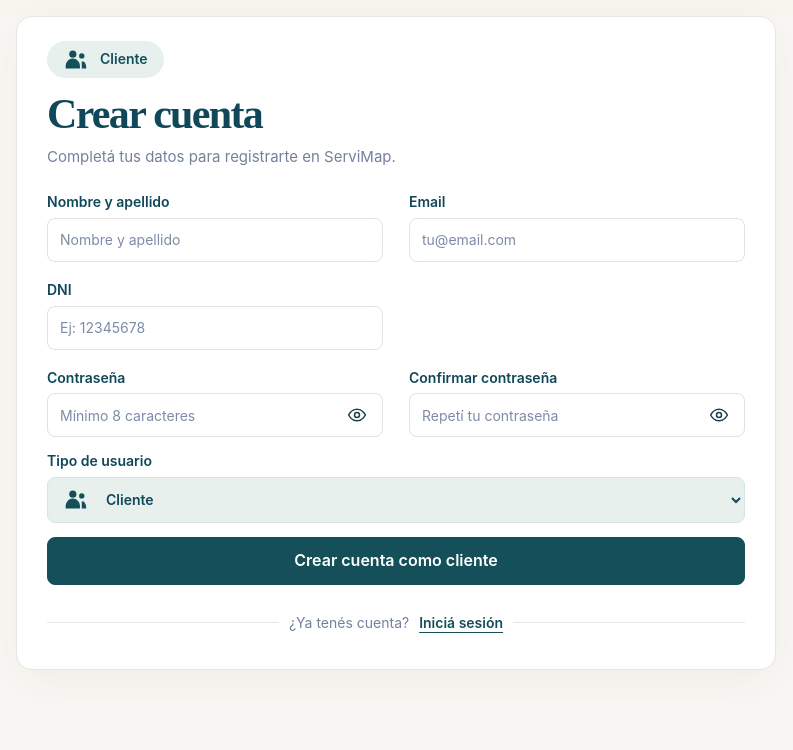
Registro conectado al backend › registra CLIENTE con el contrato exacto y normaliza DNI
The width and height of the screenshot is (793, 750).
Type "Persona Apellido" into the field labelled "Nombre y apellido". click: (215, 240)
box: [47,218,383,262]
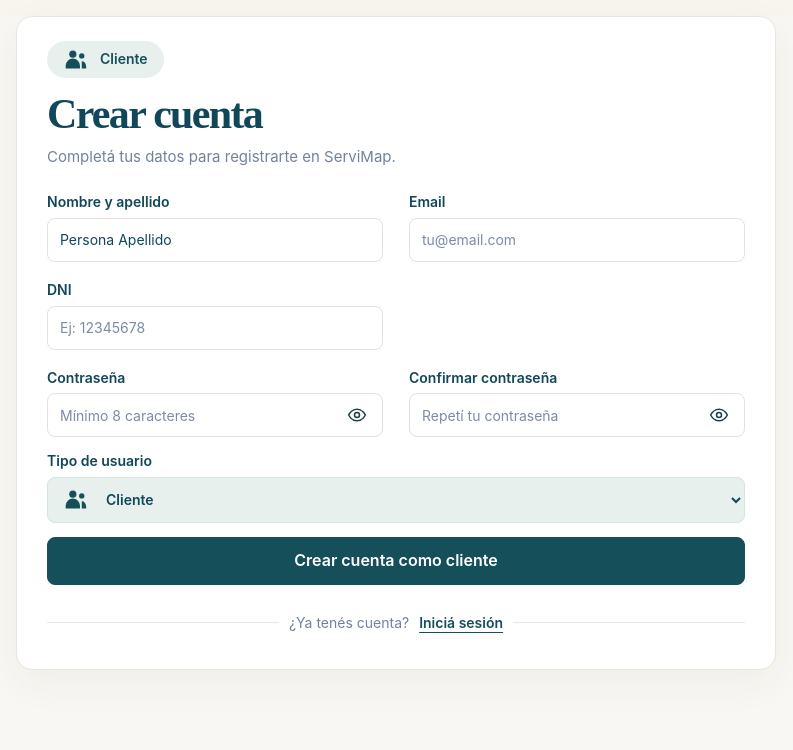
Type "12.345.678" into the field labelled "DNI". click: (215, 328)
box: [47,306,383,350]
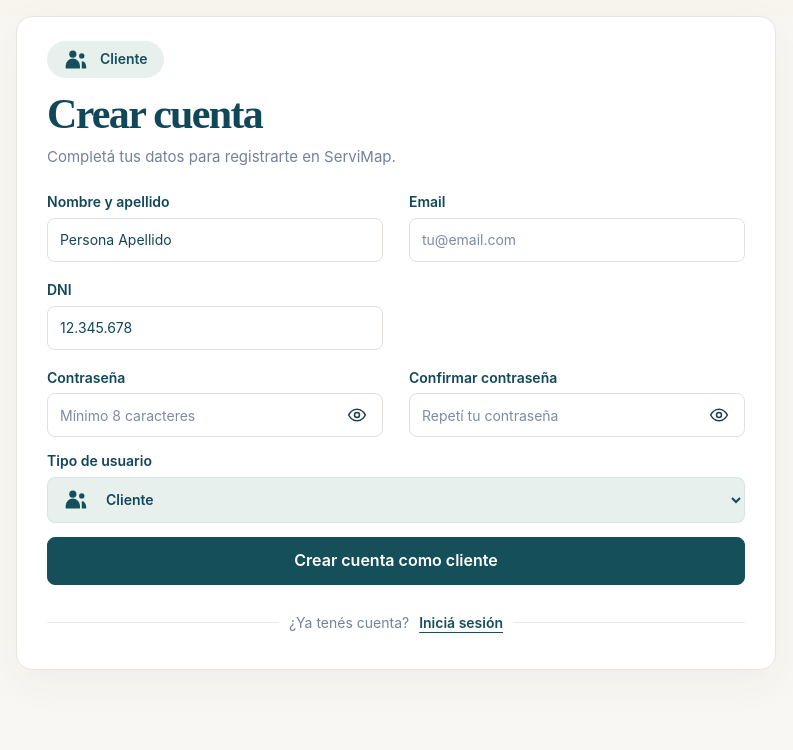
Type "PERSONA@example.test" into the field labelled "Email". click: (577, 240)
box: [409,218,745,262]
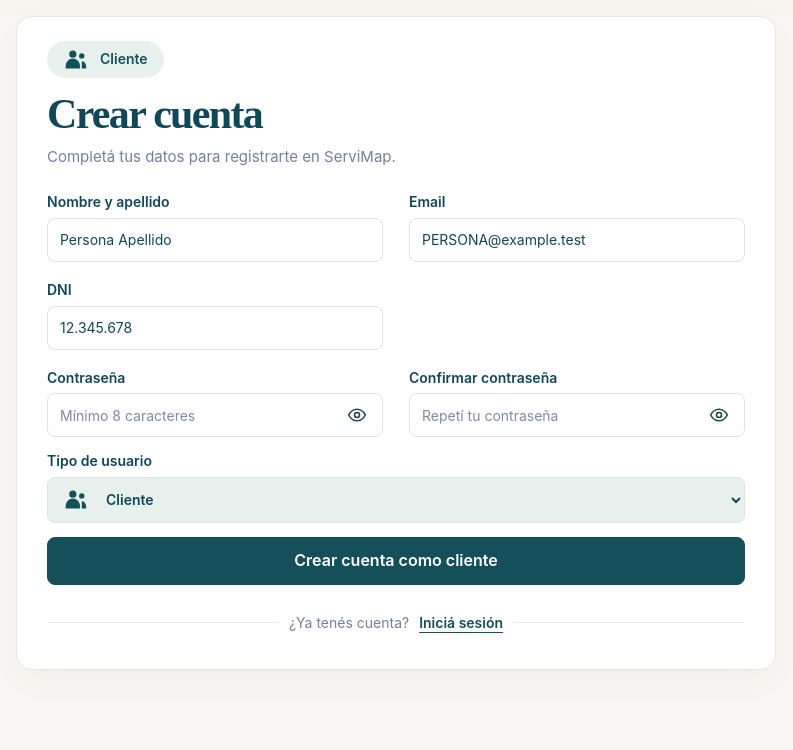
Type "clave1234" into the password field labelled "Contraseña". click: (215, 415)
box: [47,393,383,437]
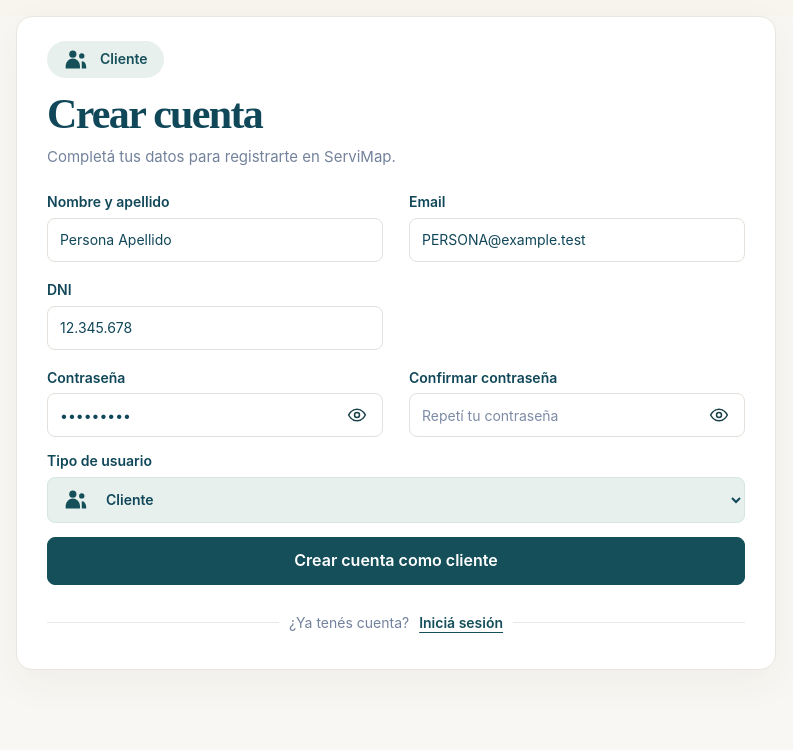
Type "clave1234" into the password field labelled "Confirmar contraseña". click: (577, 415)
box: [409,393,745,437]
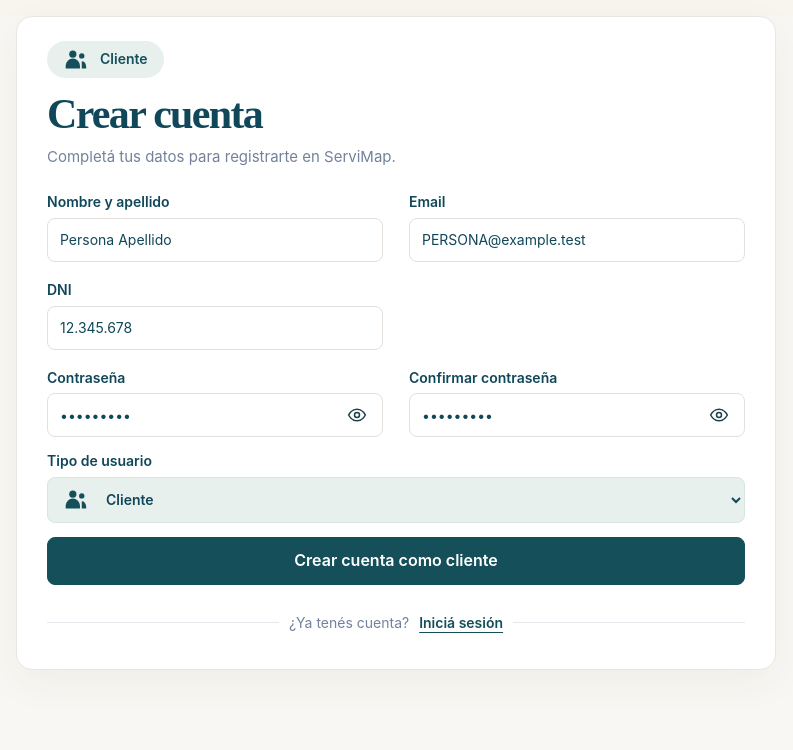
Click the button "Crear cuenta como cliente". click: (396, 561)
box: [47,537,745,585]
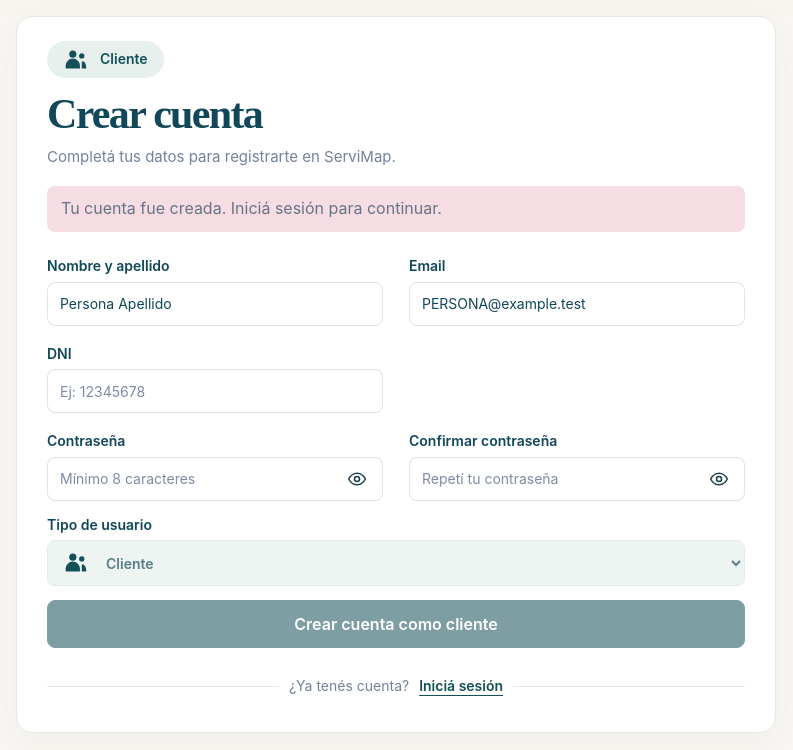
Result: the message shows "Tu cuenta fue creada" at [61,198,442,218]
Result: the password field labelled "Contraseña" is empty at [47,457,383,501]
